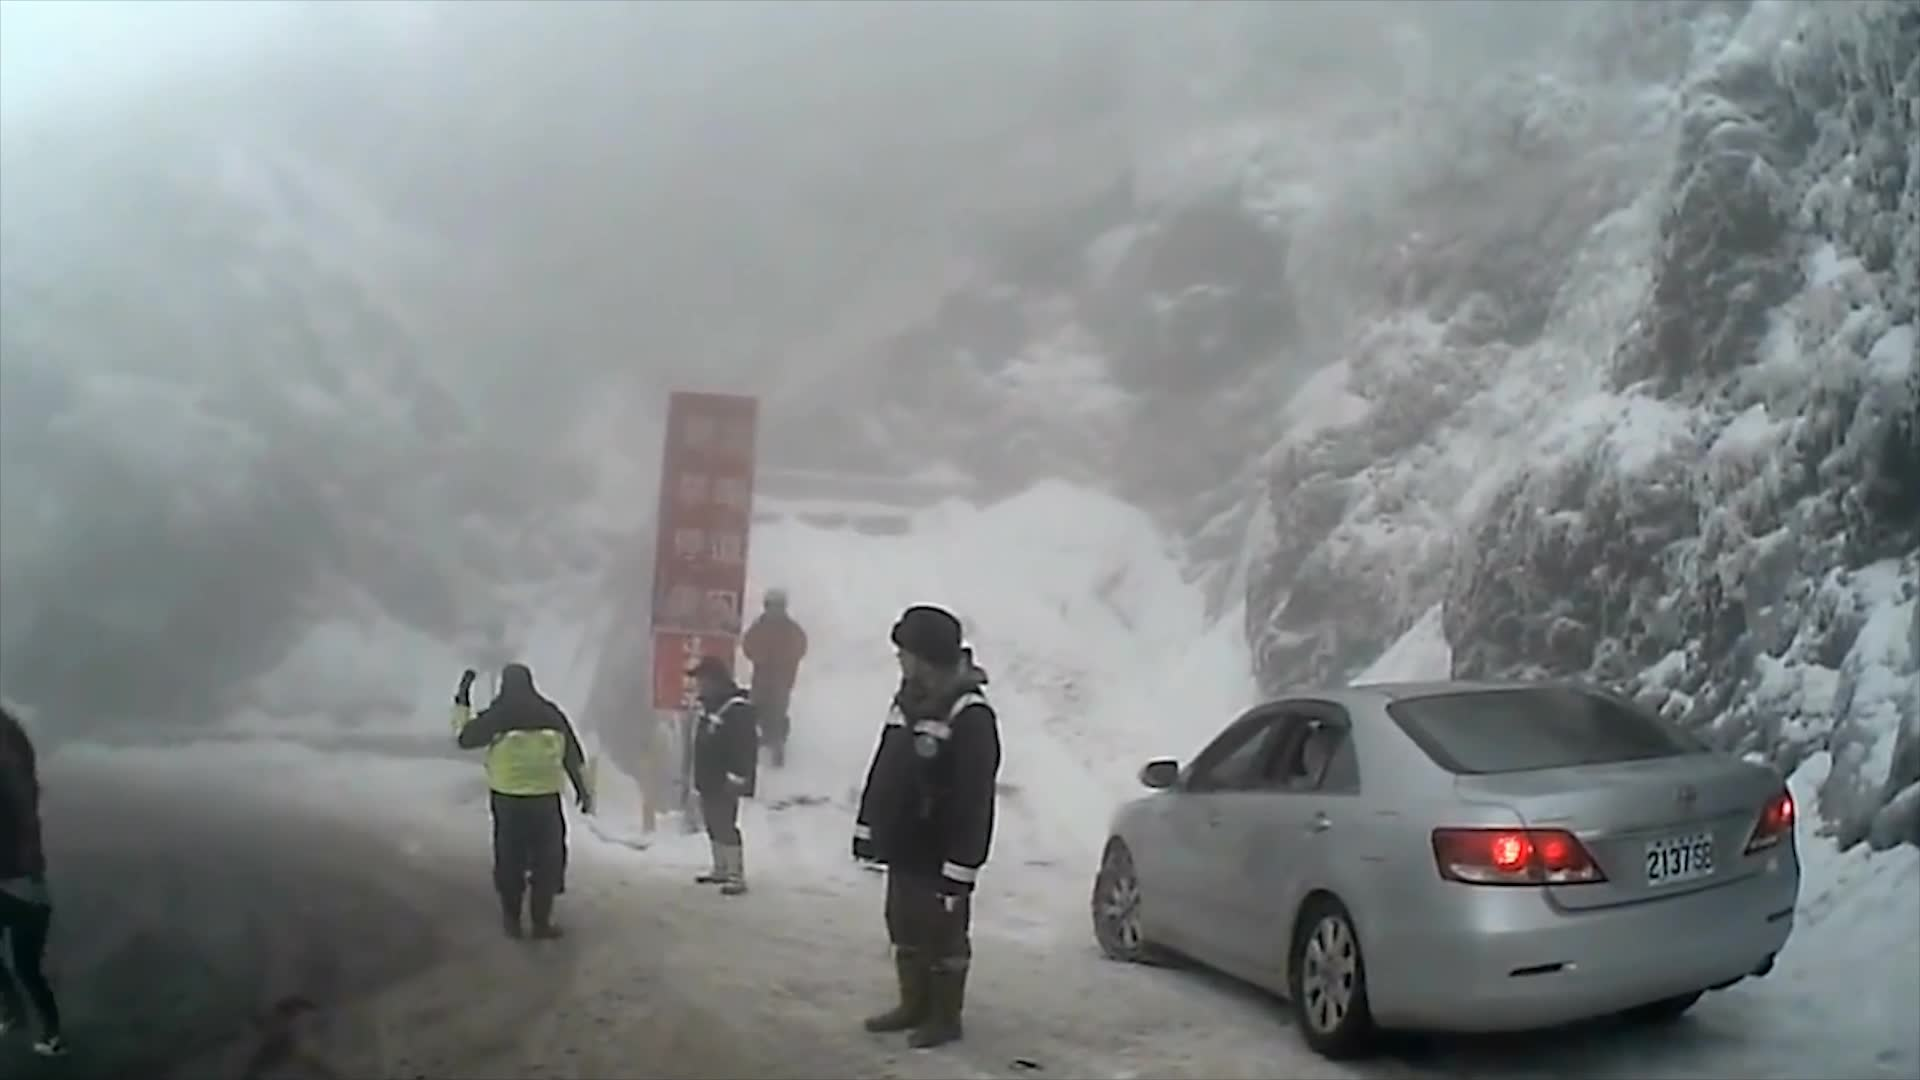pedestrian: (852, 605, 1001, 1049), (435, 665, 593, 937), (1, 665, 79, 1060), (683, 655, 765, 896), (743, 582, 818, 773)
vehicle: (1091, 670, 1802, 1052)
